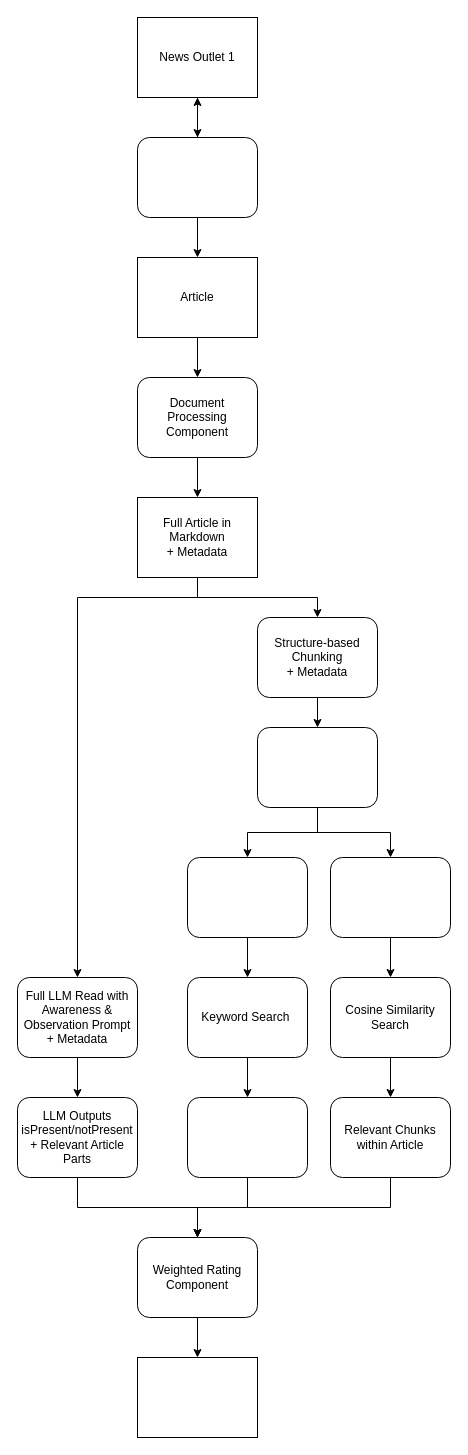
The diagram is 468 pixels wide and 1455 high, and some of its shapes have lost their labels. Here are the shapes that lost their labels. From the top down, the centre of each, then its label:
the point at 197,177: Scraper Component
the point at 317,767: Chunk from Article
the point at 247,897: Sparse Vectors for Fulltext Search with Multilingual Capacity
the point at 390,897: Multilingual embeddings for Cosine Similarity
the point at 247,1137: Relevant Keywords within Article
the point at 197,1397: Article rating isInteresting or notInteresting + Relevant Part/s
